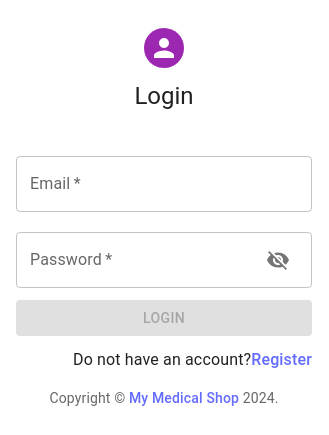
it: Login › Button must be disabled when only password exists and appropriate required error message must be shown
The width and height of the screenshot is (329, 435).
In the password field with test id "login-password": (133, 260) [16,232,250,288], type "Kal1304*"
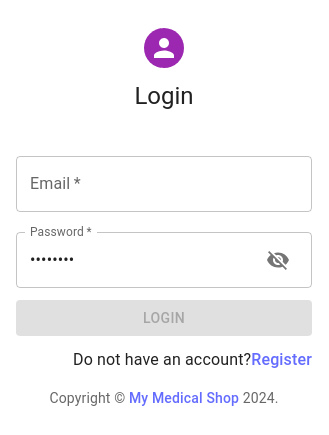
Leave the field with test id "login-email", box [16,156,312,212]
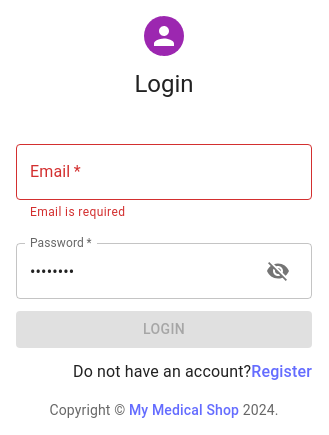
Expected: the button "Login" is disabled, [16,311,312,348]
Now the text "Email is required" is shown, box [30,205,125,219]
